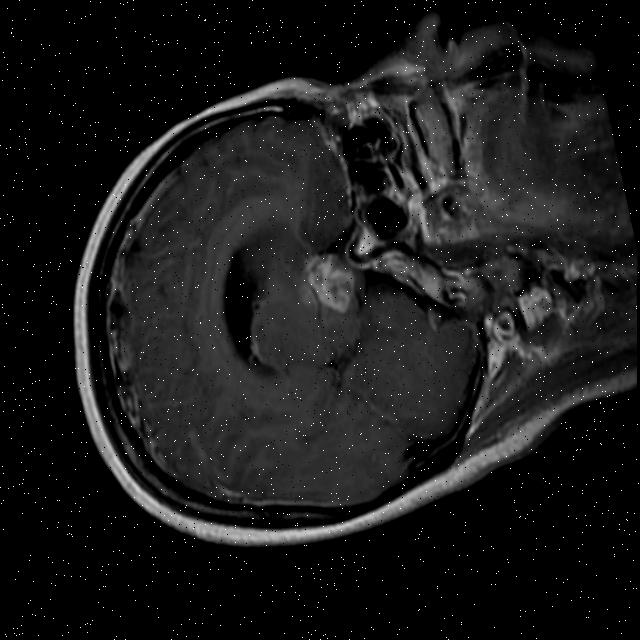Glioma: (297, 243, 364, 322)
